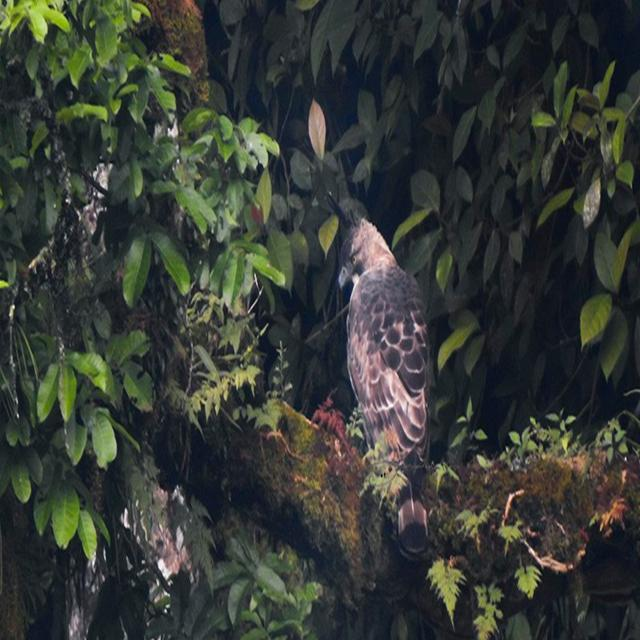Elang Jawa: (328, 192, 447, 561)
